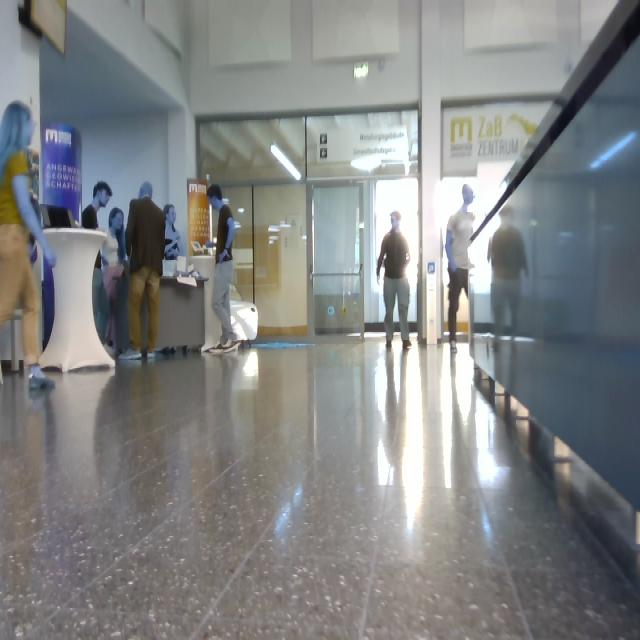door: (253, 182, 308, 337), (311, 182, 365, 336)
light bulb: (271, 142, 302, 181), (351, 153, 383, 173), (353, 61, 369, 78)
person: (1, 101, 58, 392), (125, 181, 167, 360), (487, 205, 530, 349), (206, 184, 242, 353), (446, 184, 477, 353), (82, 181, 113, 346), (377, 210, 413, 349), (102, 208, 130, 357)
staircase: (466, 1, 639, 589)
tiled floor: (1, 335, 639, 639)
